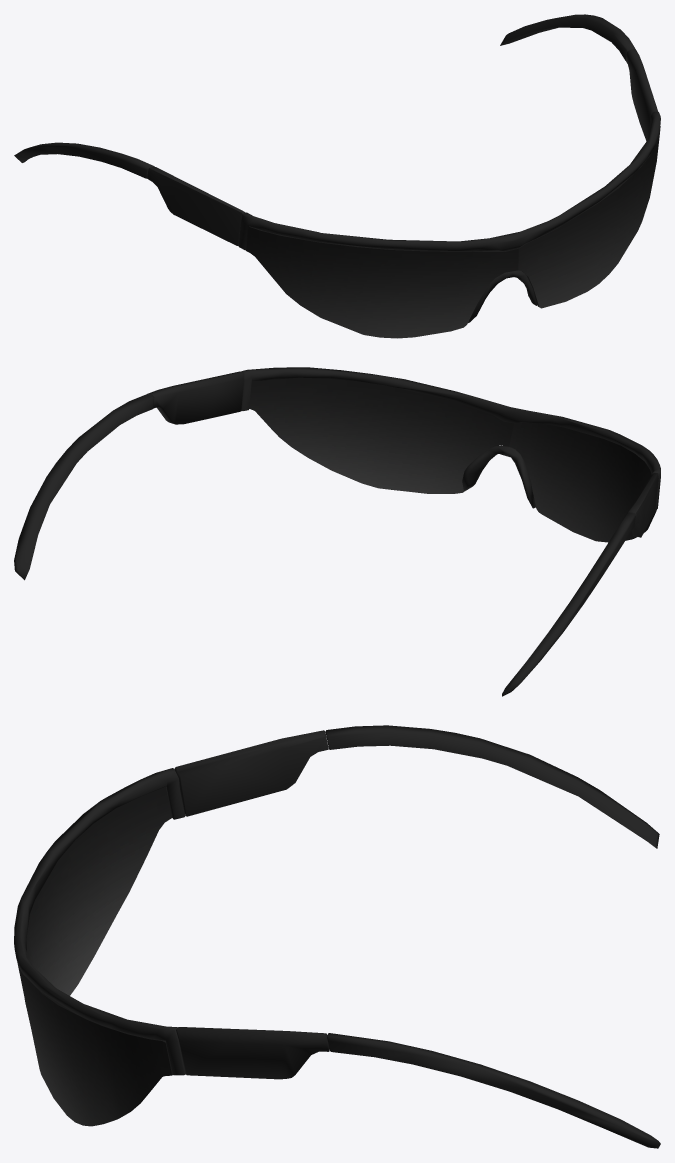
File: B_Q3_M_Acc_0002.DAE
The picture shows the model from 3 angles, top to bottom: view 1: azimuth 30°, elevation 25°; view 2: azimuth 150°, elevation 25°; view 3: azimuth 270°, elevation 25°; orthographic projection. The views are drawn at different scales.
Parts seen in each view (by area): view 1: B_Q3_M_Acc_0002; view 2: B_Q3_M_Acc_0002; view 3: B_Q3_M_Acc_0002.
Boxes of the visible parts, bbox=[...] form: B_Q3_M_Acc_0002: bbox=[14, 14, 660, 338]; B_Q3_M_Acc_0002: bbox=[14, 367, 660, 696]; B_Q3_M_Acc_0002: bbox=[14, 725, 660, 1148].
Bounding box in the file's own units: 22.17 × 18.18 × 5.38.
